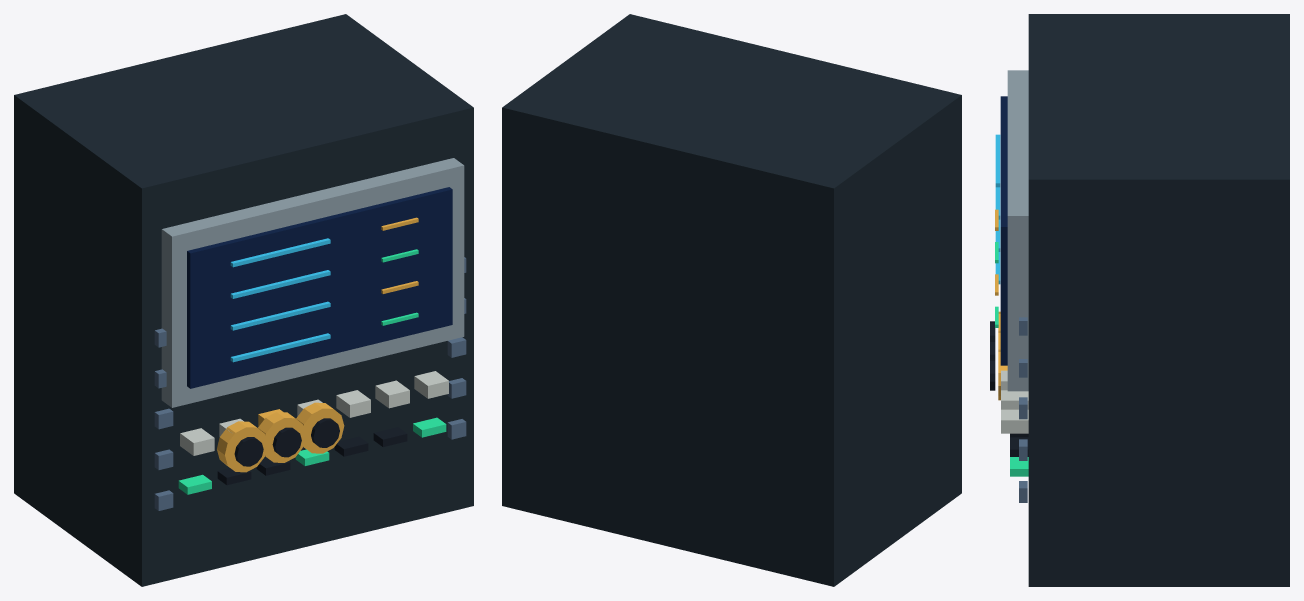
Rendered from 44_L84_ComplementaryFusionDisplay.fbx.
3 renders of one model, left to right at view 1: azimuth 30°, elevation 25°; view 2: azimuth 150°, elevation 25°; view 3: azimuth 270°, elevation 25°, orthographic. The views are drawn at different scales.
Parts seen in each view (by area): view 1: L84_ComplementaryFusionDisplay, L84_ComplementaryFusionDisplay_Part_0009, L84_ComplementaryFusionDisplay_Part_0013, L84_ComplementaryFusionDisplay_Part_0011, L84_ComplementaryFusionDisplay_Part_0012, L84_ComplementaryFusionDisplay_Part_0014, L84_ComplementaryFusionDisplay_Part_0010; view 2: L84_ComplementaryFusionDisplay; view 3: L84_ComplementaryFusionDisplay.
Boxes of the visible parts, x1,y1,x2,y2 form: L84_ComplementaryFusionDisplay: [14, 14, 473, 586]; L84_ComplementaryFusionDisplay_Part_0009: [217, 421, 267, 472]; L84_ComplementaryFusionDisplay_Part_0013: [296, 402, 344, 453]; L84_ComplementaryFusionDisplay_Part_0011: [258, 412, 305, 462]; L84_ComplementaryFusionDisplay_Part_0012: [272, 427, 301, 457]; L84_ComplementaryFusionDisplay_Part_0014: [311, 418, 339, 447]; L84_ComplementaryFusionDisplay_Part_0010: [234, 437, 263, 466]; L84_ComplementaryFusionDisplay: [502, 14, 961, 586]; L84_ComplementaryFusionDisplay: [995, 14, 1289, 586].
Bounding box in the file's own units: 99.96 × 115 × 76.52.
